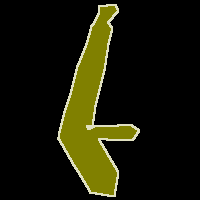tie: (58, 4, 139, 196)
